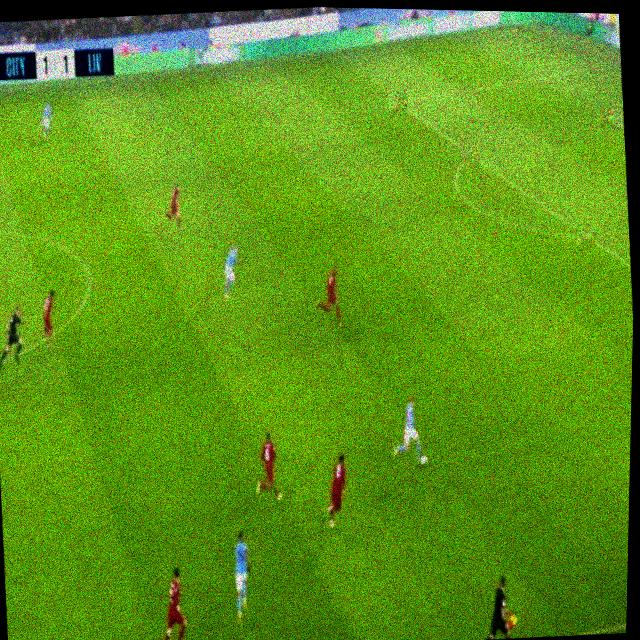bigarea_top_inner: (387, 89, 408, 115)
bigarea_top_outter: (586, 57, 604, 76)
bottom_arc_area_intersection: (574, 221, 596, 247)
corner: (497, 21, 519, 38)
smallarea_top_inner: (599, 107, 618, 129)
top_arc_area_intersection: (460, 142, 480, 166)
